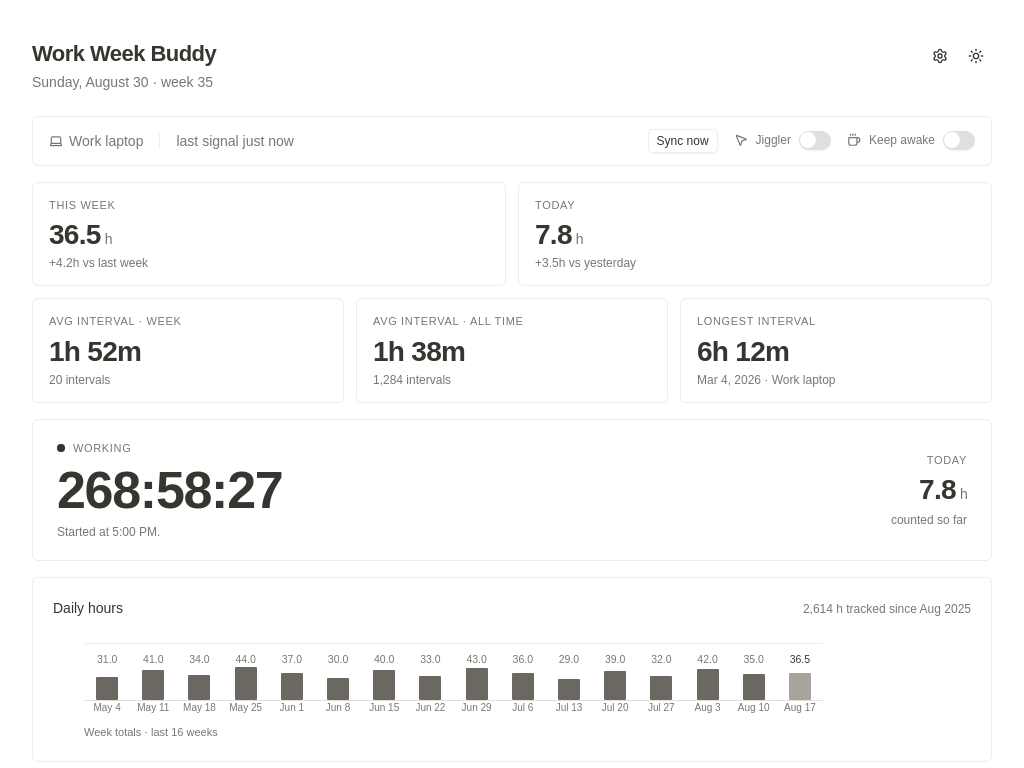
Test: what it says when it did not › prints the reason, in red, as an alert
This screenshot has width=1024, height=768.
Click the button "Sync now" at (683, 140), box x1=648 y1=128 x2=718 y2=152
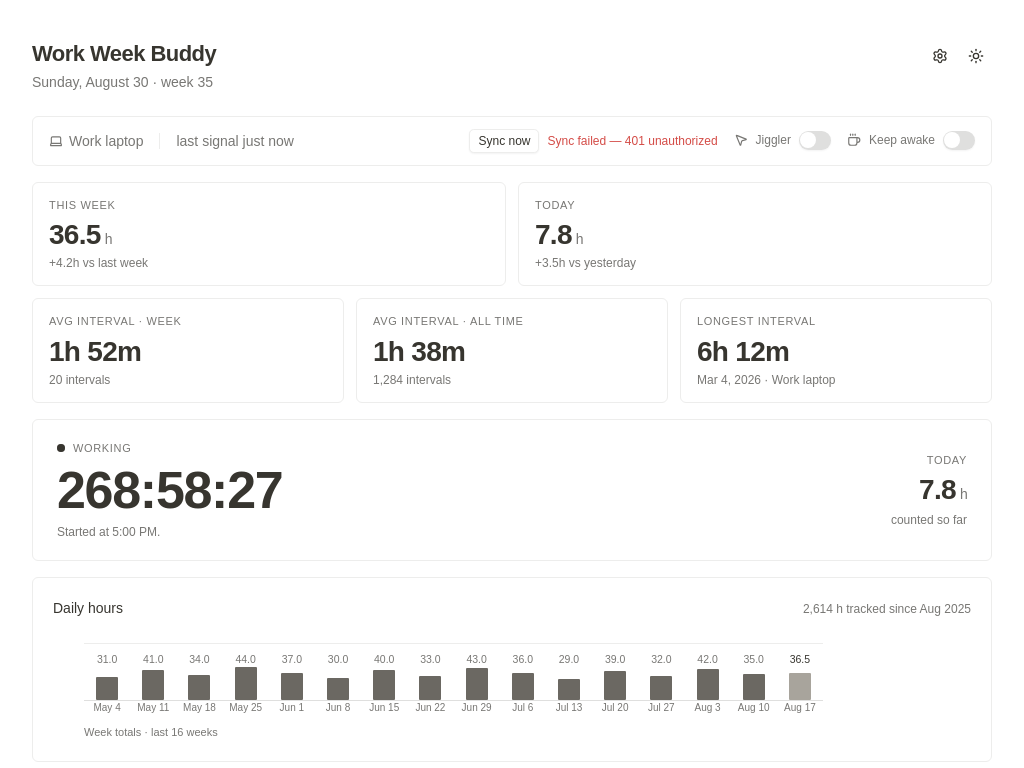
Expected: the message "Sync failed — 401 unauthorized" is shown, x1=548 y1=132 x2=718 y2=148
